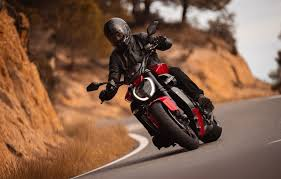motorcycle: (86, 17, 225, 150)
